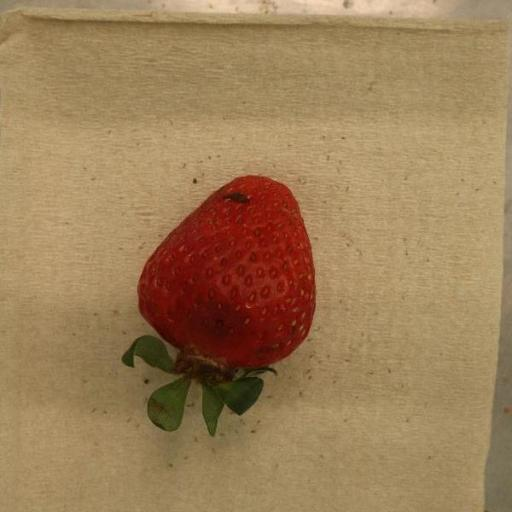Strawberry: (122, 176, 316, 438)
